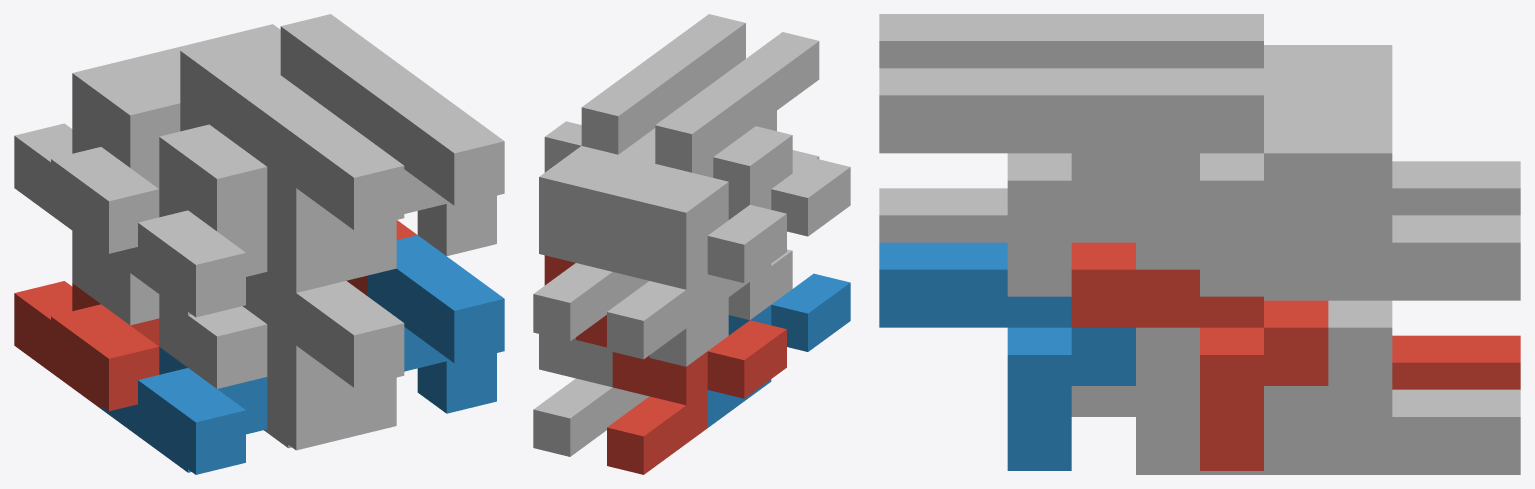
The model's file is tiling.obj.
The picture shows the model from 3 angles, left to right: view 1: azimuth 30°, elevation 25°; view 2: azimuth 150°, elevation 25°; view 3: azimuth 270°, elevation 25°; orthographic projection. The views are drawn at different scales.
Parts seen in each view (by area): view 1: copy_2_domain_4, copy_2_domain_2, copy_2_domain_3, copy_2_domain_8, copy_2_domain_6, copy_1_domain_3, copy_1_domain_1, copy_1_domain_4, copy_1_domain_2, copy_2_domain_7, copy_2_domain_1, copy_1_domain_6 (+2 smaller); view 2: copy_1_domain_3, copy_1_domain_1, copy_2_domain_3, copy_2_domain_7, copy_1_domain_7, copy_2_domain_4, copy_1_domain_5, copy_1_domain_4, copy_1_domain_2, copy_2_domain_8, copy_2_domain_2, copy_2_domain_1 (+1 smaller); view 3: copy_2_domain_7, copy_2_domain_8, copy_2_domain_6, copy_2_domain_5, copy_1_domain_7, copy_1_domain_5, copy_2_domain_3, copy_1_domain_6, copy_1_domain_8, copy_2_domain_4, copy_1_domain_3, copy_1_domain_1 (+1 smaller).
Boxes of the visible parts, x1,y1,x2,y2 form: copy_2_domain_4: (159, 102, 404, 280); copy_2_domain_2: (159, 272, 404, 438); copy_2_domain_3: (72, 38, 316, 167); copy_2_domain_8: (367, 77, 504, 255); copy_2_domain_6: (367, 235, 504, 413); copy_1_domain_3: (14, 48, 180, 253); copy_1_domain_1: (14, 281, 159, 411); copy_1_domain_4: (101, 189, 267, 317); copy_1_domain_2: (101, 347, 267, 474); copy_2_domain_7: (173, 14, 417, 138); copy_2_domain_1: (72, 231, 267, 325); copy_1_domain_6: (264, 377, 346, 450); copy_1_domain_3: (607, 179, 786, 359); copy_1_domain_1: (607, 320, 786, 474); copy_2_domain_3: (618, 78, 755, 251); copy_2_domain_7: (544, 60, 681, 233); copy_1_domain_7: (533, 161, 633, 341); copy_2_domain_4: (713, 32, 819, 204); copy_1_domain_5: (533, 334, 633, 456); copy_1_domain_4: (707, 158, 850, 312); copy_1_domain_2: (707, 273, 850, 427); copy_2_domain_8: (640, 14, 745, 142); copy_2_domain_2: (728, 150, 819, 319); copy_2_domain_1: (649, 297, 728, 366); copy_2_domain_7: (1071, 68, 1392, 296); copy_2_domain_8: (879, 68, 1135, 296); copy_2_domain_6: (879, 242, 1135, 470); copy_2_domain_5: (1071, 242, 1328, 470); copy_1_domain_7: (1264, 126, 1520, 300); copy_1_domain_5: (1264, 300, 1520, 474); copy_2_domain_3: (1071, 14, 1392, 99); copy_1_domain_6: (1071, 327, 1328, 474); copy_1_domain_8: (1071, 153, 1328, 300); copy_2_domain_4: (879, 14, 1071, 68); copy_1_domain_3: (1328, 72, 1520, 215); copy_1_domain_1: (1392, 335, 1520, 389).
Bounding box in the file's own units: 6 × 7 × 10.
